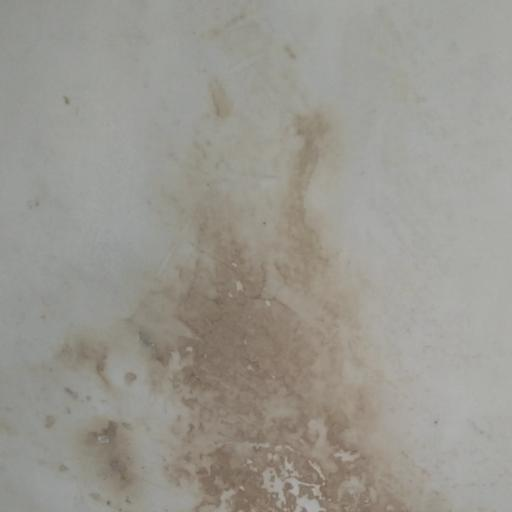stain: (135, 88, 461, 512), (30, 319, 170, 512), (173, 0, 311, 106), (19, 181, 66, 236), (49, 84, 100, 129)
